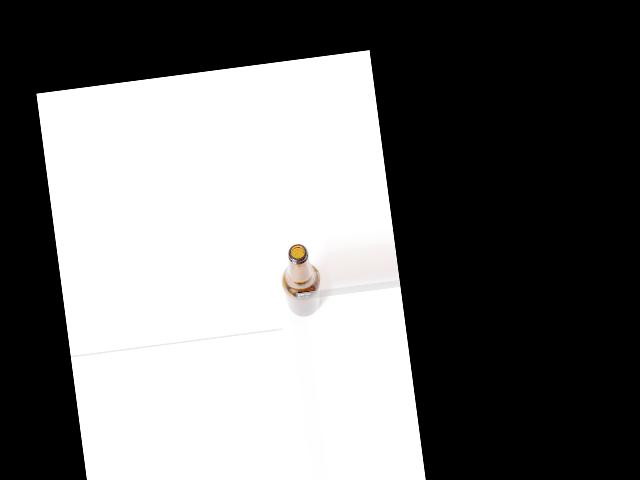beer: (277, 241, 326, 319)
